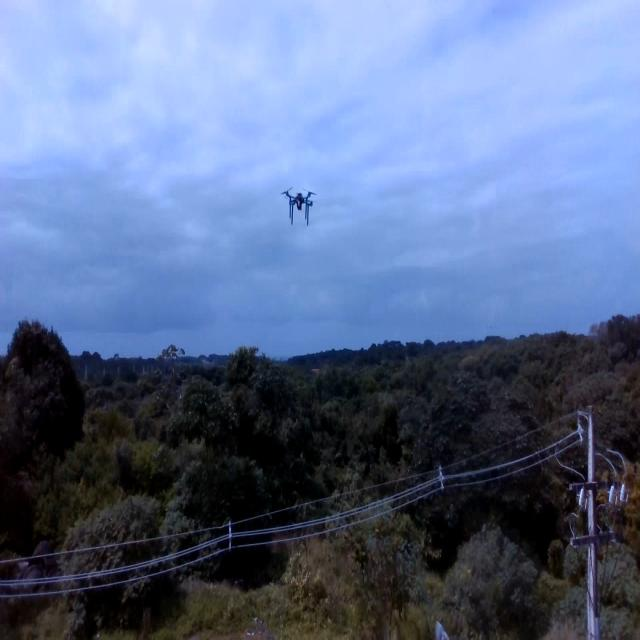-uav-: (276, 175, 323, 235)
